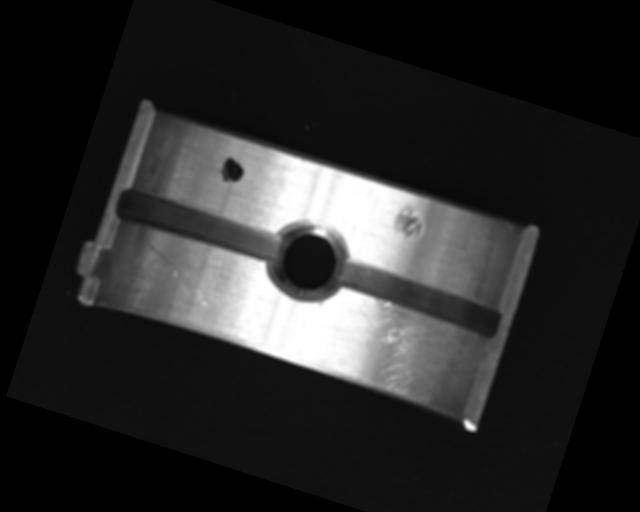blot: (217, 154, 248, 187)
bruise: (390, 199, 428, 242)
gap: (330, 255, 505, 342), (113, 184, 282, 265)
hole: (260, 211, 356, 311)
nick: (133, 241, 222, 308)
scratch: (308, 283, 482, 415)
